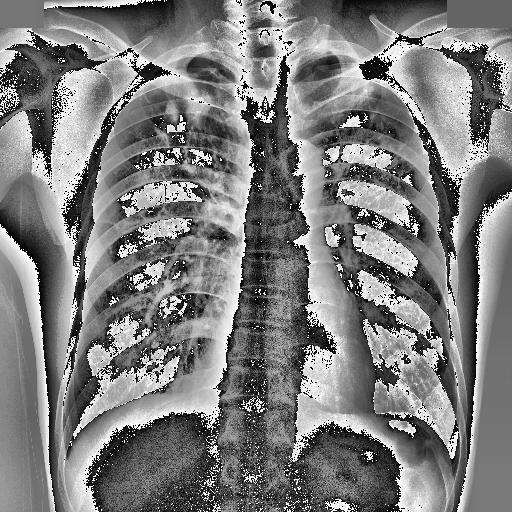13- Pulmonary fibrosis: (104, 74, 226, 248), (146, 75, 226, 188), (356, 81, 425, 177), (154, 92, 224, 179), (358, 79, 428, 162), (354, 84, 418, 174), (92, 214, 162, 232), (144, 82, 150, 106)
8- Nodule-Mass: (116, 204, 224, 257), (151, 340, 159, 349), (203, 324, 211, 330)
